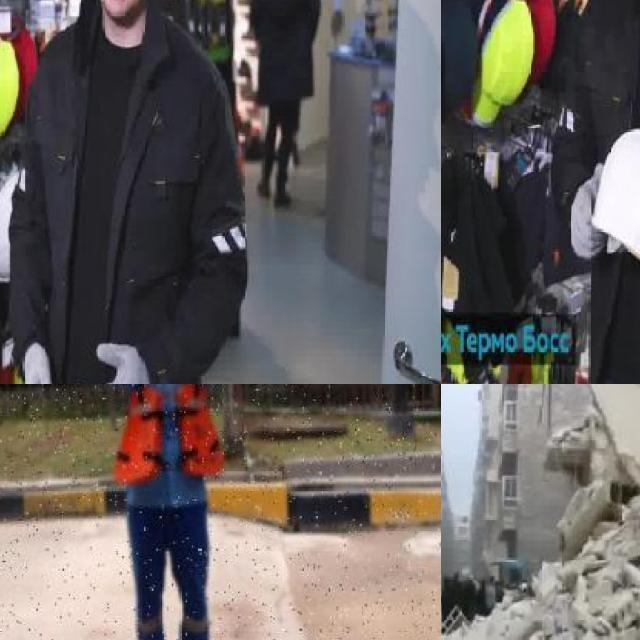apron: (568, 158, 608, 261), (72, 339, 152, 384), (20, 341, 71, 384)
